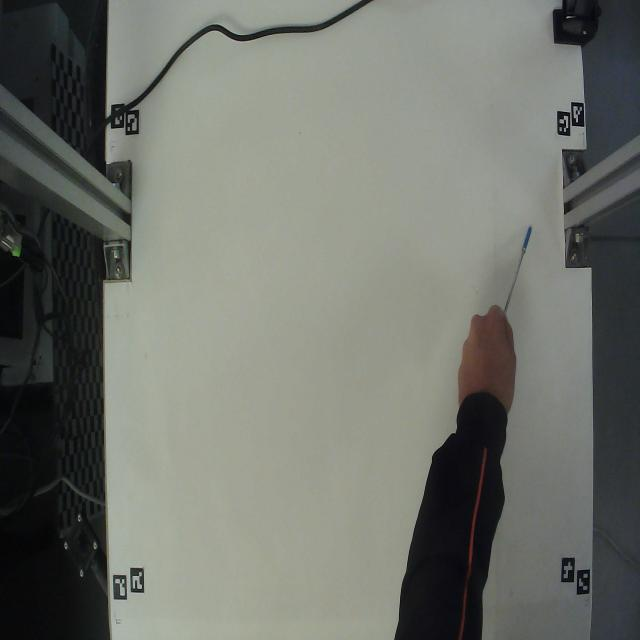Pres: (494, 216, 540, 319)
